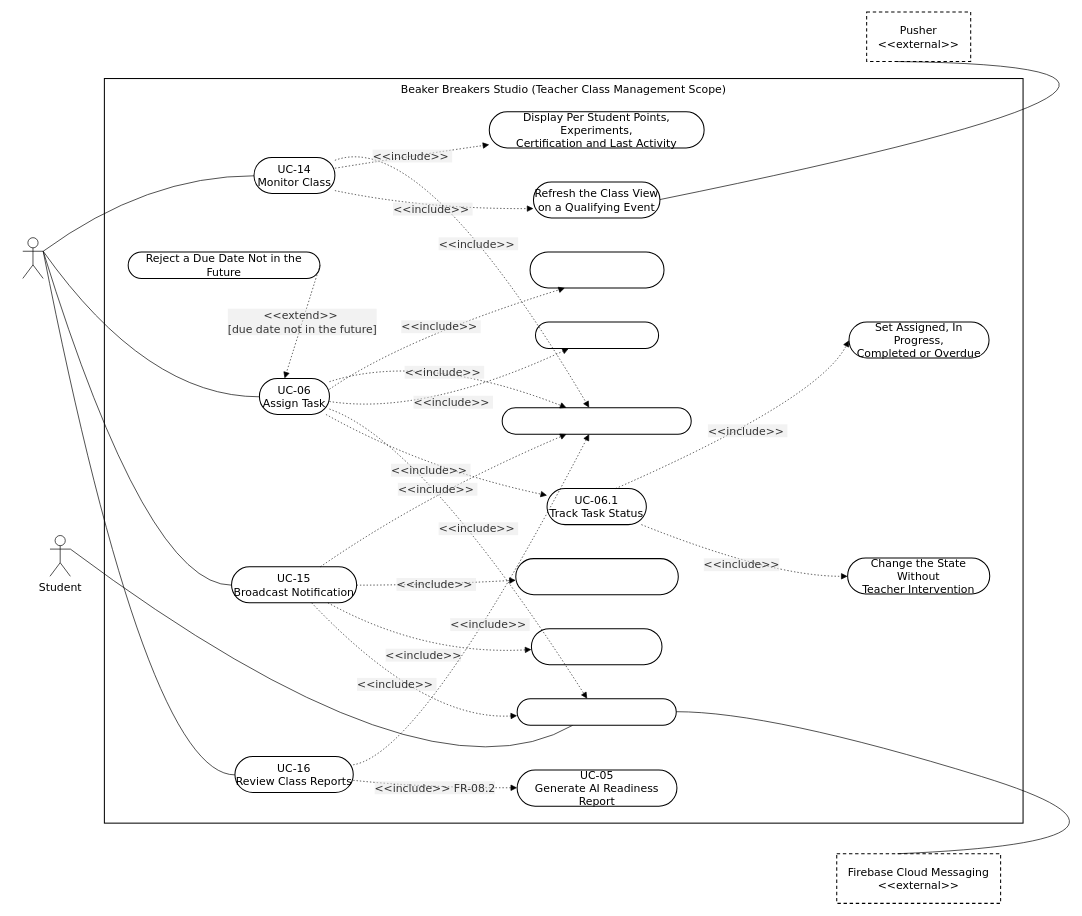
This 1082x916 diagram has some shape labels left out. Here are the shapes that lost their labels. From the top down, the centre of each, then its label:
At [32,257]: "Teacher".
At [596,269]: "Select Individual, Group or Whole Class".
At [597,335]: "Validate the Due Date".
At [596,420]: "Restrict Access to an Assigned Class".
At [597,576]: "Select Task, Reminder, Safety Alert or Announcement".
At [596,646]: "Limit to 500 Characters and Remove Markup".
At [596,711]: "Notify Each Targeted Student".
